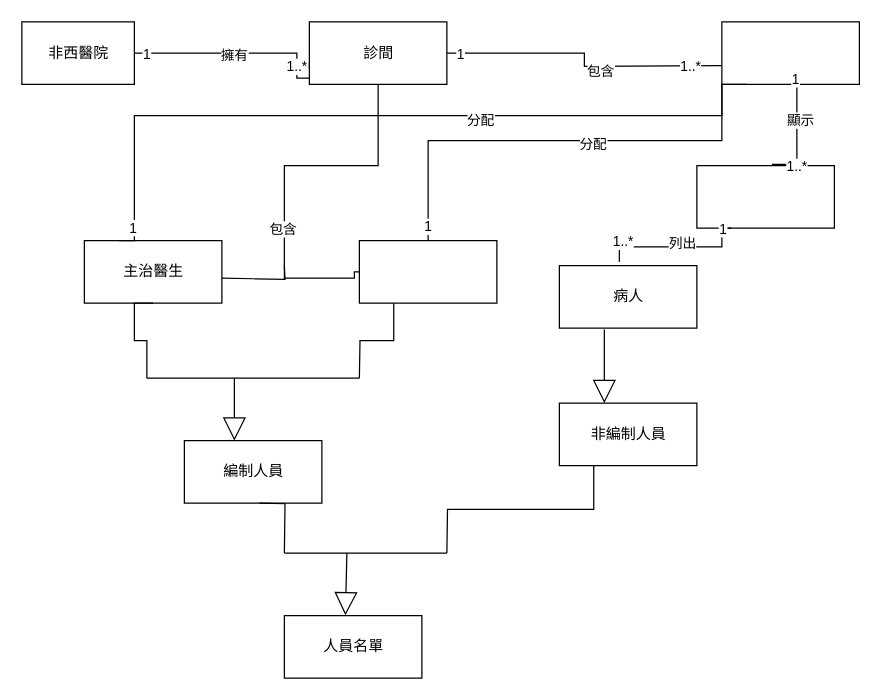
The diagram is 881 pixels wide and 700 high, and some of its shapes have lost their labels. The centre of each missing label's shape, as x and y in pixels:
時段: [790,52]
病人治療名單: [765,196]
護理師: [427,271]
